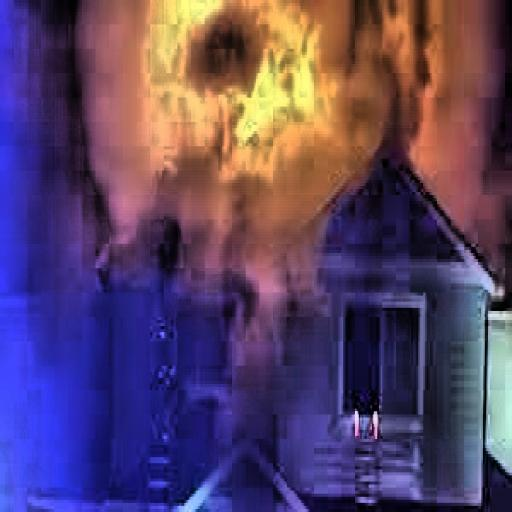fire: (67, 9, 384, 268)
